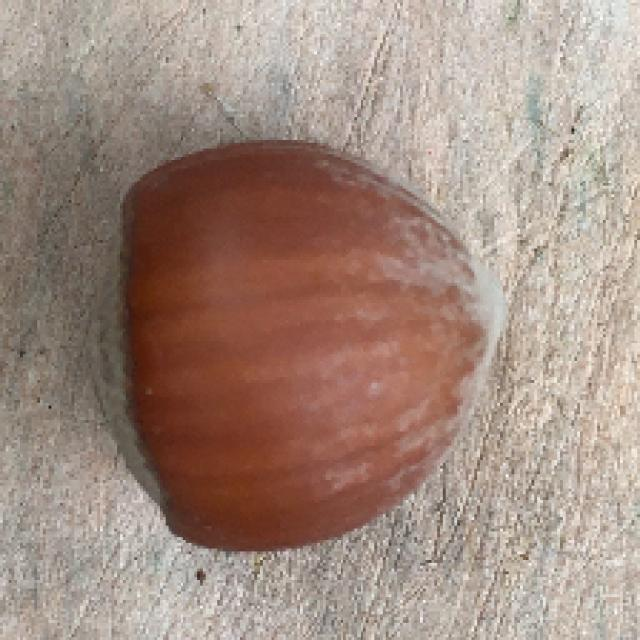qualityHazelnut: (84, 135, 498, 557)
